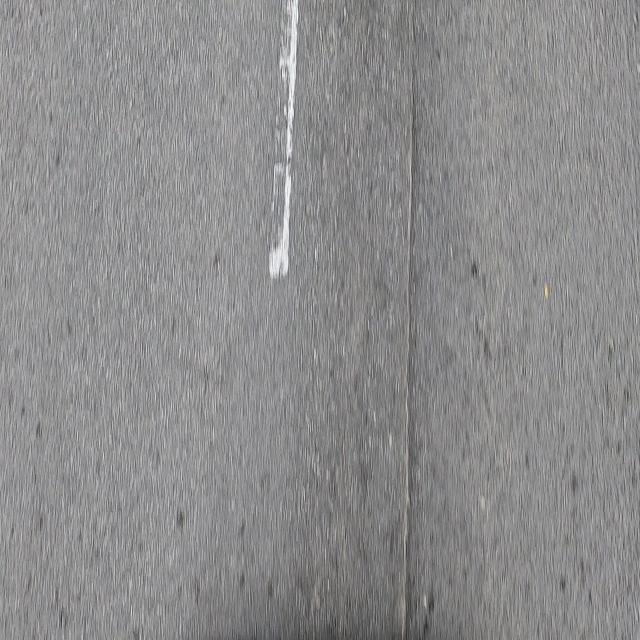Retak-Memanjang: (400, 13, 421, 640)
